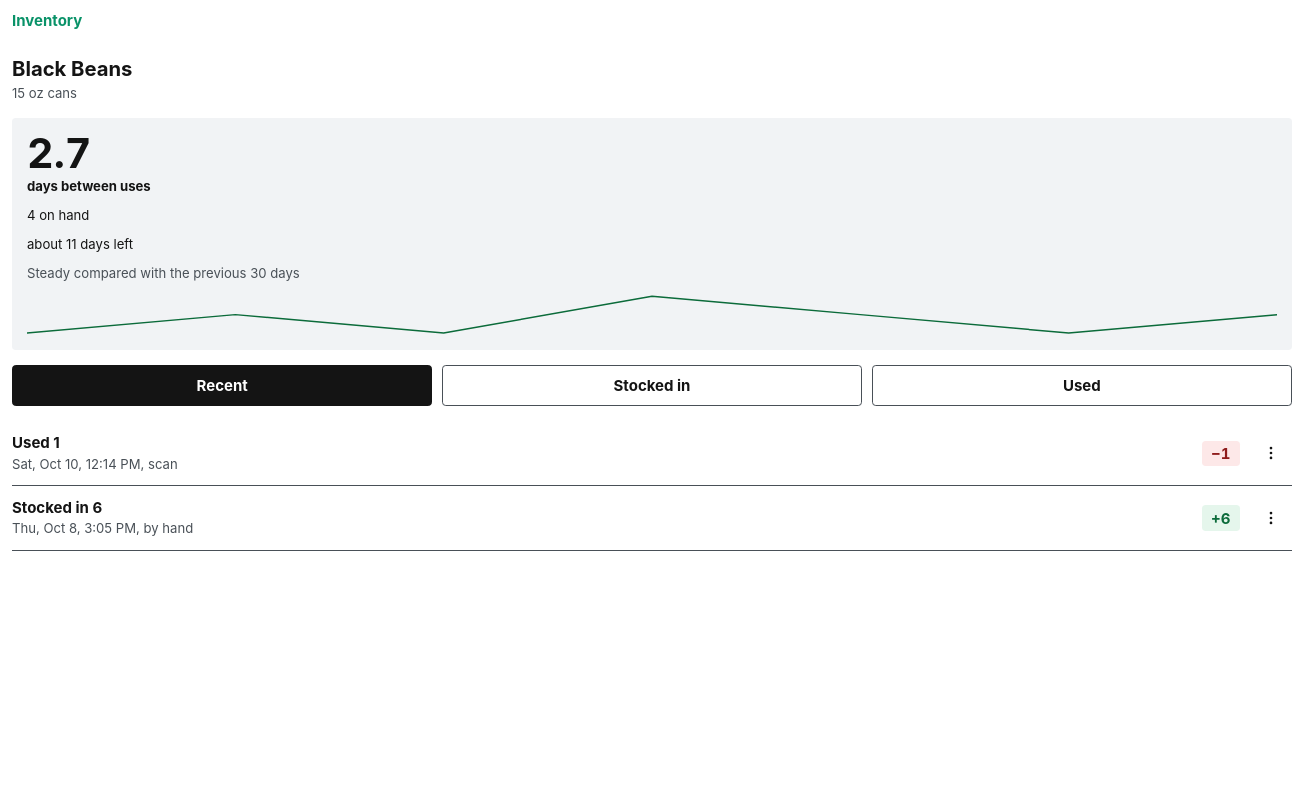
Scenario: HistoryPage › filters the trail to stocked-in moves
The width and height of the screenshot is (1304, 800).
Check: the text "Used 1" is shown, box [12,433,60,452]
Click the button "Stocked in" at coordinates (652, 386), box [442,365,862,406]
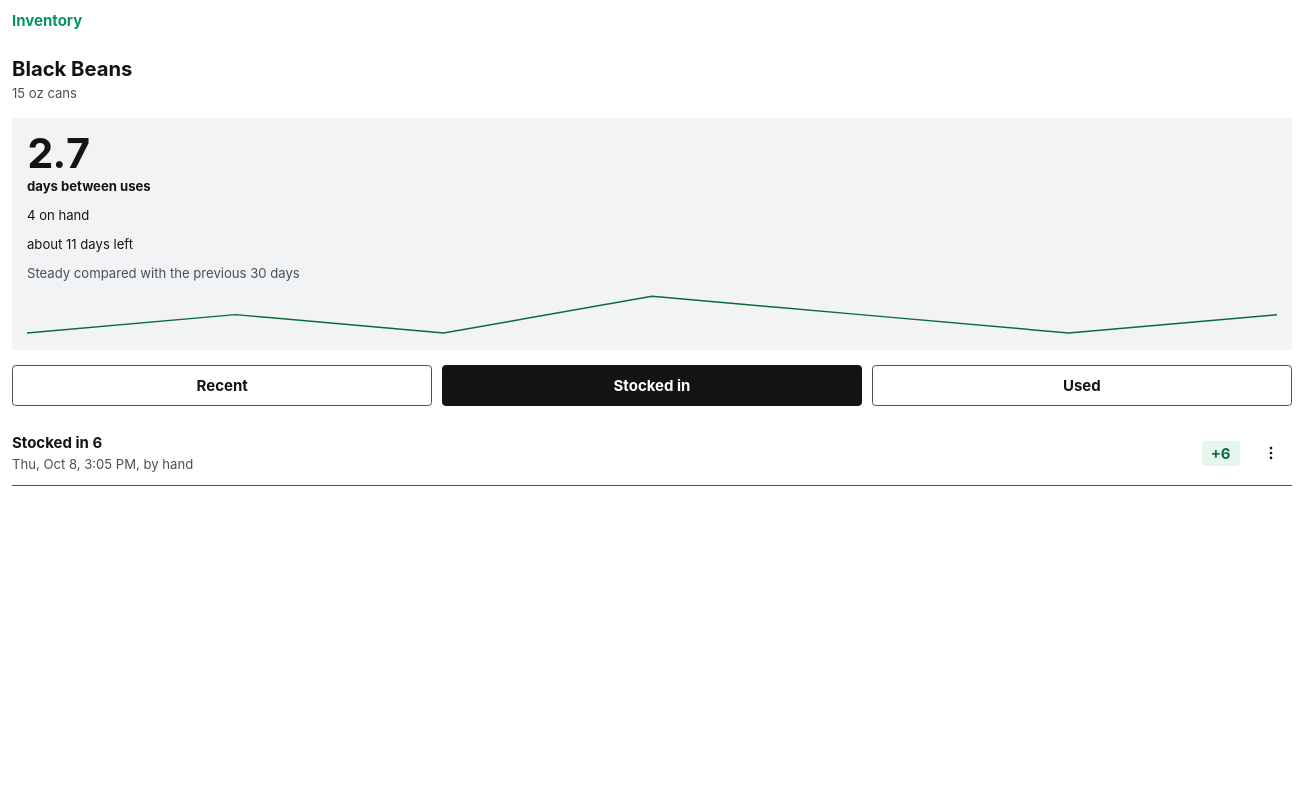
Check: the text "Stocked in 6" is shown, box [12,433,102,452]
Check: the text "Used 1" is gone
